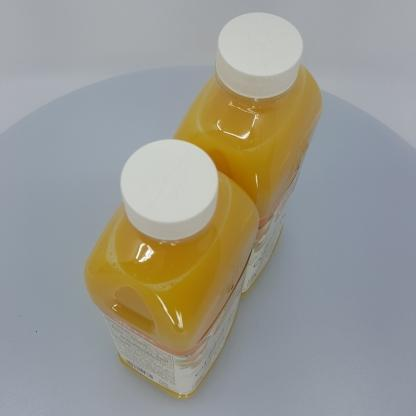----------950ML: (83, 138, 258, 401), (171, 11, 322, 299)
